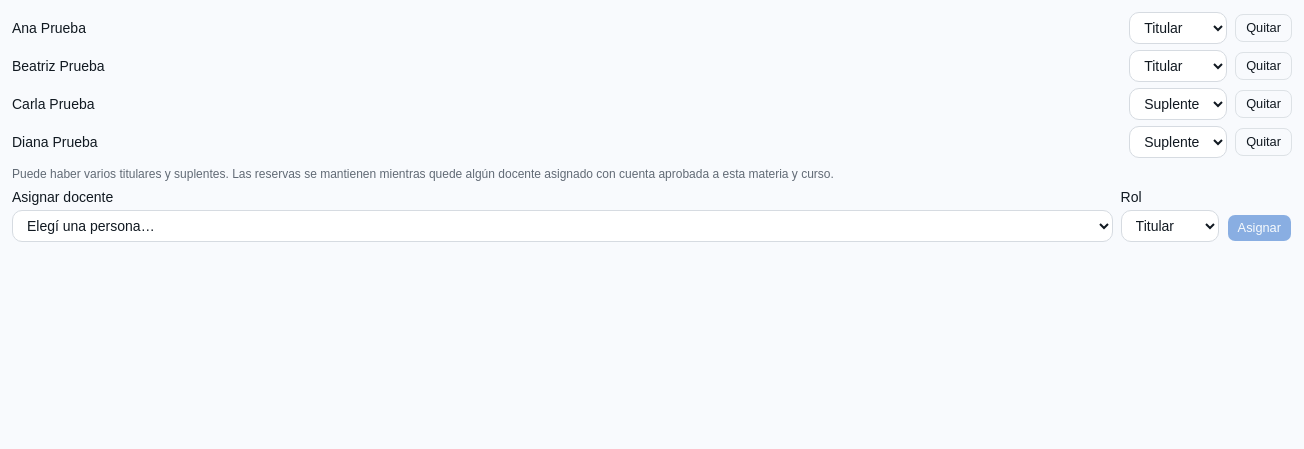
it: Quitar docentes de una materia concreta › con dos titulares y dos suplentes, quitar el docente 0 conserva las reservas
This screenshot has width=1304, height=449.
Step 1. Click the 1st button "Quitar" → (1264, 28), box [1235,14,1292,42]
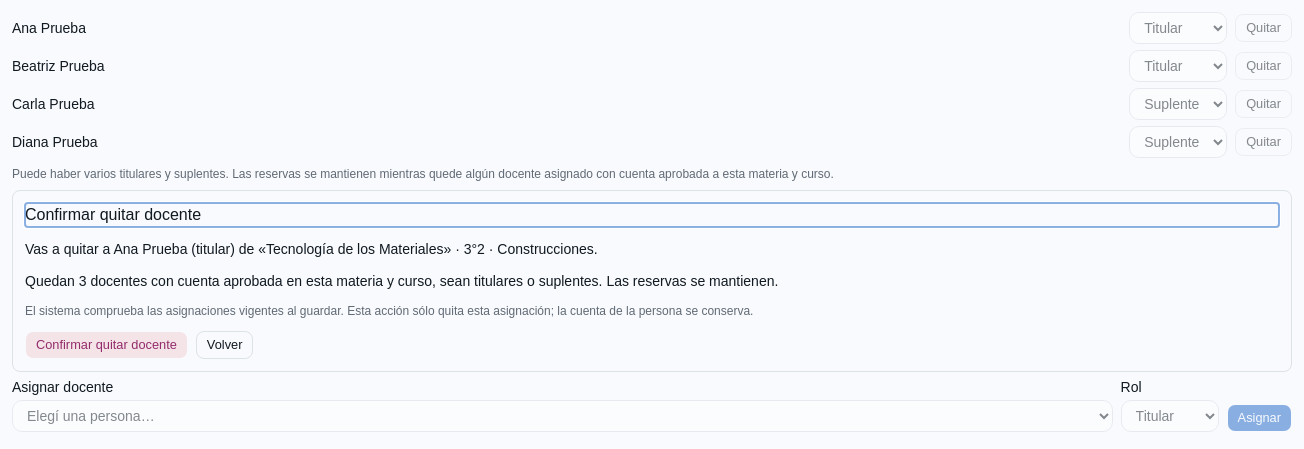
Check: the element "Confirmar quitar docente" does not show "se cancelarán", box [12,190,1292,372]
Check: the element "Confirmar quitar docente" shows "Quedan 3 docentes", box [12,190,1292,372]
Check: the element "Confirmar quitar docente" shows "Las reservas se mantienen", box [147,273,778,289]
